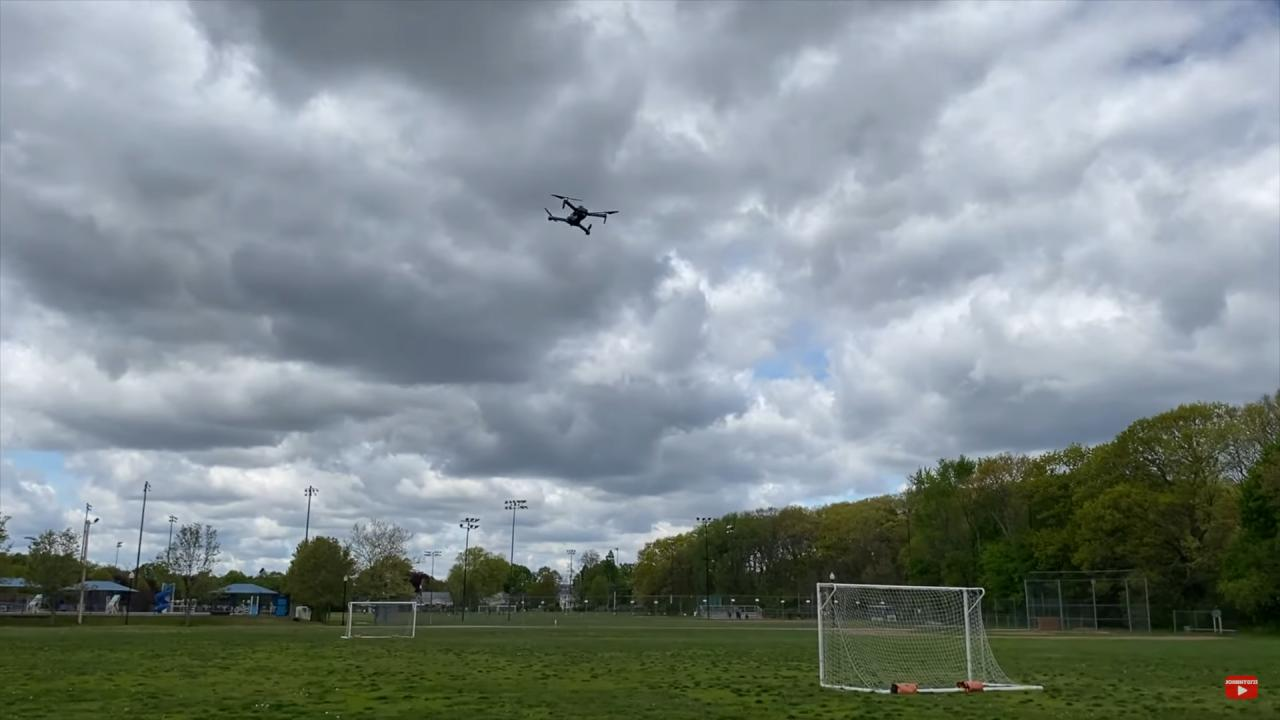Drone: (530, 183, 624, 245)
